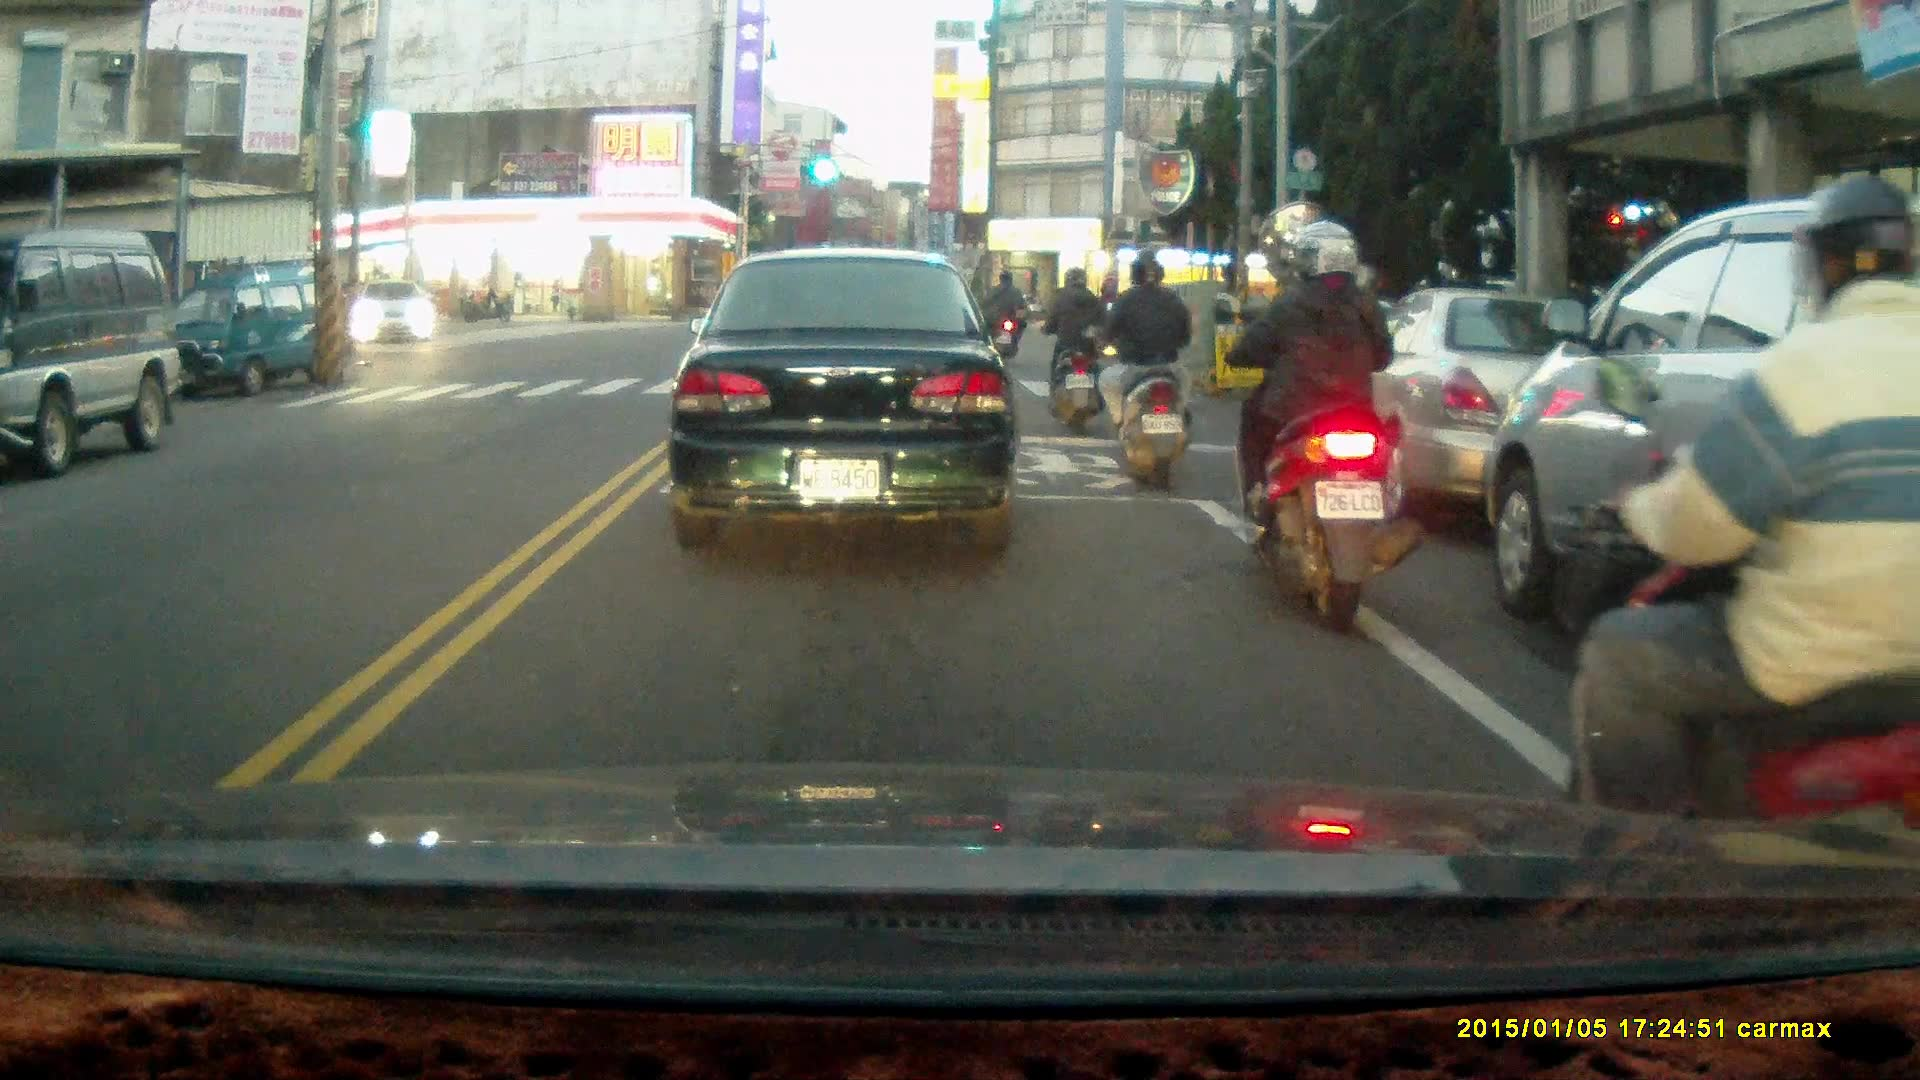rider: (1560, 173, 1917, 871), (1220, 217, 1421, 639), (1076, 248, 1191, 491), (1040, 264, 1107, 429), (984, 271, 1027, 366)
vehicle: (1486, 195, 1920, 809), (671, 249, 1022, 551), (1306, 288, 1675, 524), (1, 234, 172, 469), (154, 263, 349, 404), (355, 282, 439, 350)
